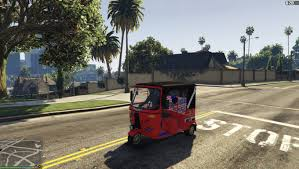tuk tuk: (126, 82, 197, 146)
